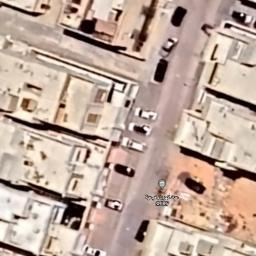SUV: (119, 135, 150, 155)
sedan: (152, 57, 170, 86), (158, 36, 180, 58), (183, 174, 207, 194), (134, 104, 160, 122), (113, 161, 137, 179), (170, 5, 188, 28), (128, 121, 150, 138), (81, 243, 108, 256)
unknown: (101, 194, 126, 213), (133, 218, 151, 243)
